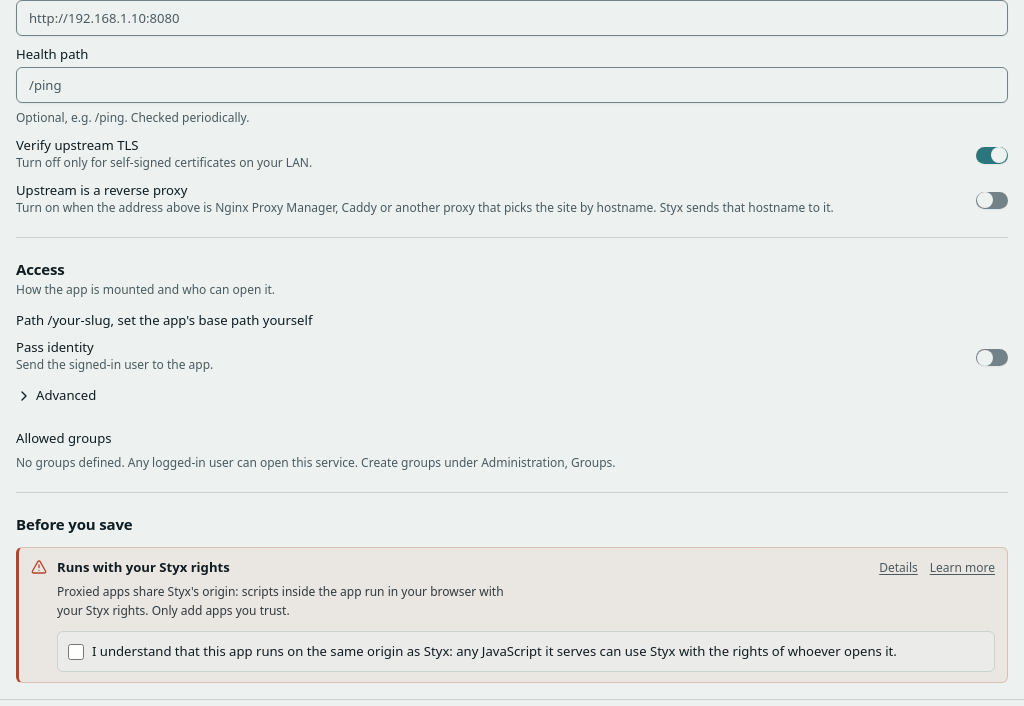
it: ServiceForm behaviour › preset fills fields and shows hint
(page scrolled)
Click the checkbox labelled "I understand that this app runs on the same origin as Styx": (76, 652) 68,644 -> 84,660
(page scrolled)
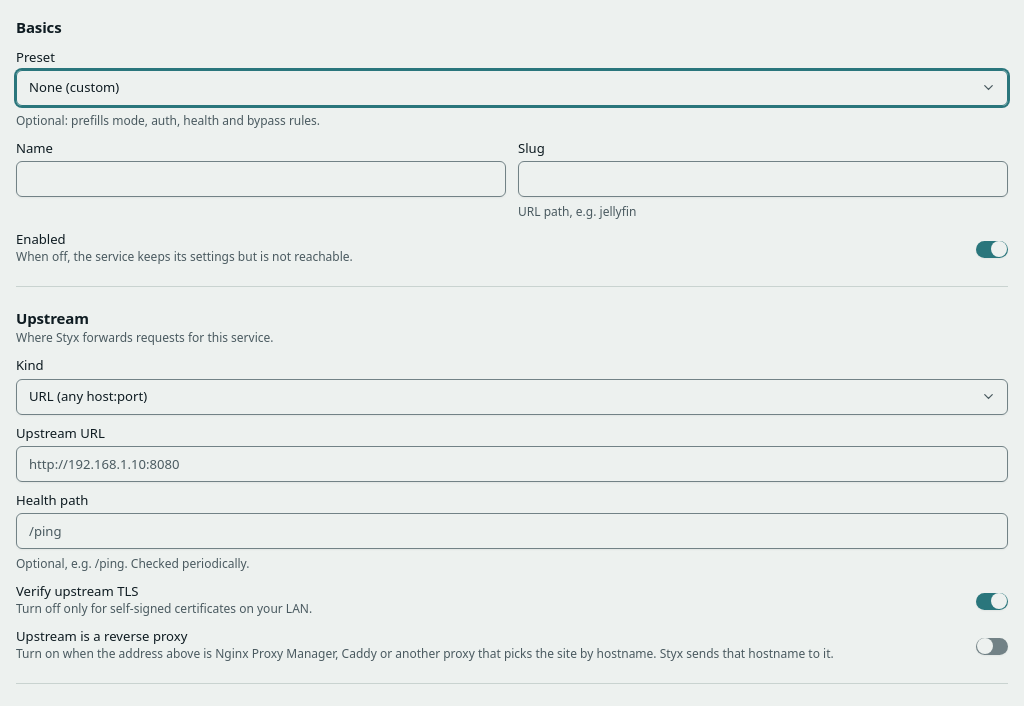
Select "Sonarr" in the dropdown labelled "Preset": (512, 88) 16,70 -> 1008,106
(page scrolled)
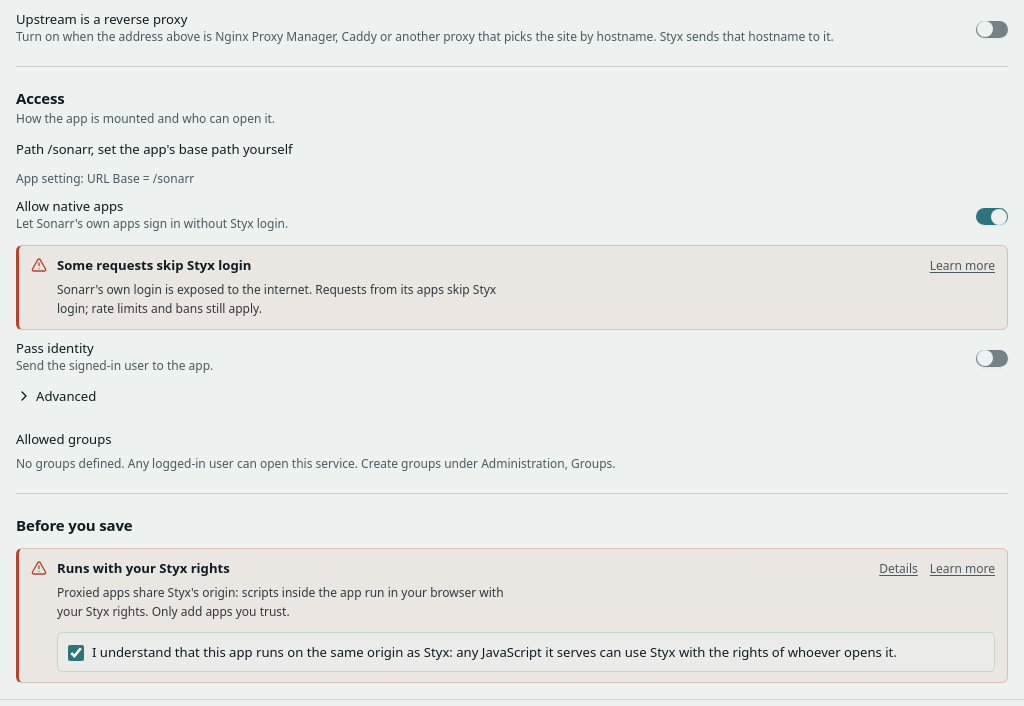
Click the heading "Advanced": (56, 396) 16,387 -> 96,406
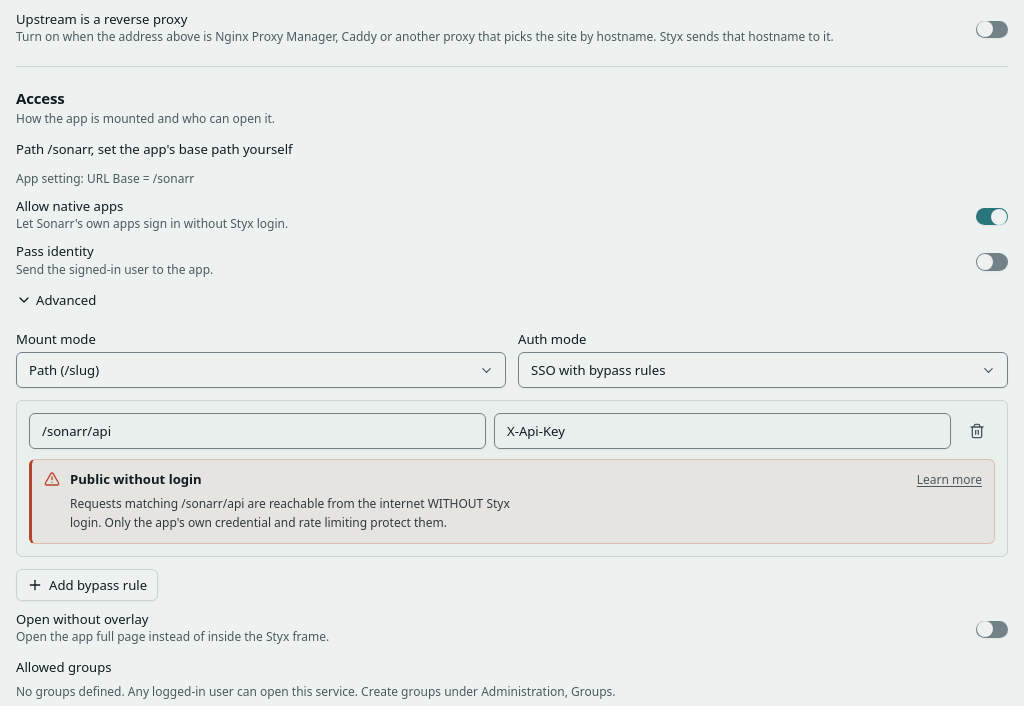
Now the text "App setting: URL Base = /sonarr" is shown, box 16,170 -> 194,187
Now the field named "Bypass path prefix" holds "/sonarr/api", box 29,413 -> 486,449
